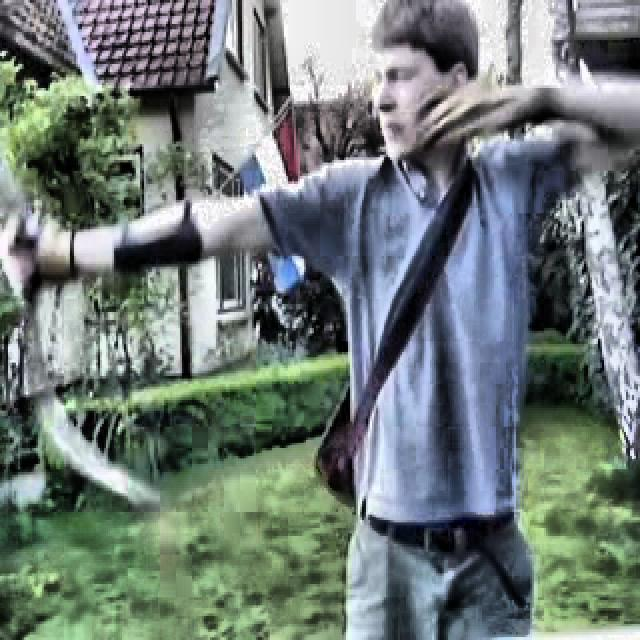P: (5, 8, 548, 629)
